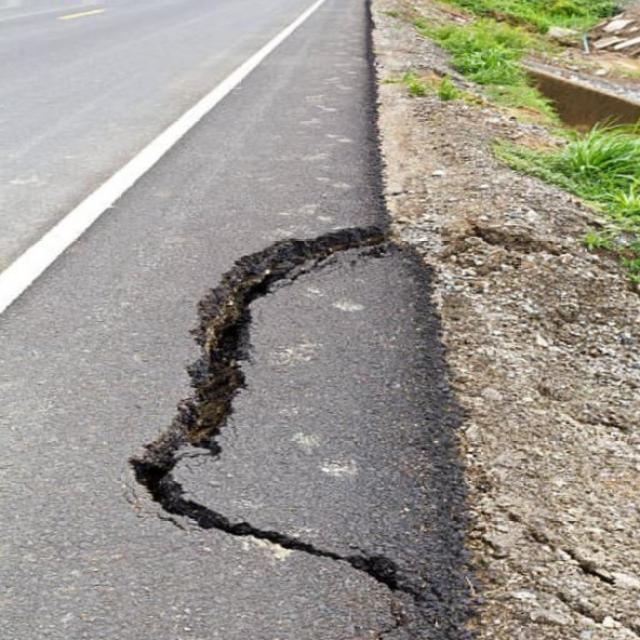Pinggir: (110, 220, 505, 612)
